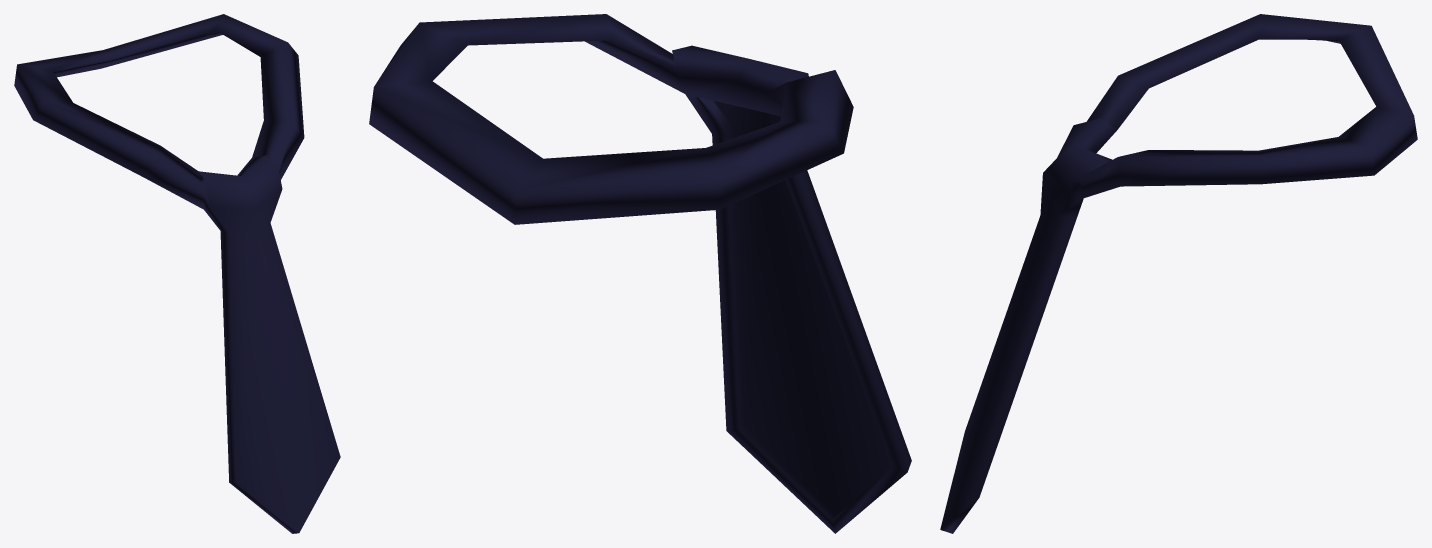
Rendered from CUNeckTie.fbx.
The picture shows the model from 3 angles, left to right: view 1: azimuth 30°, elevation 25°; view 2: azimuth 150°, elevation 25°; view 3: azimuth 270°, elevation 25°; orthographic projection. The views are drawn at different scales.
Visible parts, largest first — view 1: Tie; view 2: Tie; view 3: Tie.
Boxes of the visible parts, x1,y1,x2,y2 form: Tie: [14, 14, 340, 533]; Tie: [369, 14, 911, 533]; Tie: [940, 14, 1417, 533].
Size of the model in its own units: 91.65 by 122 by 118.
